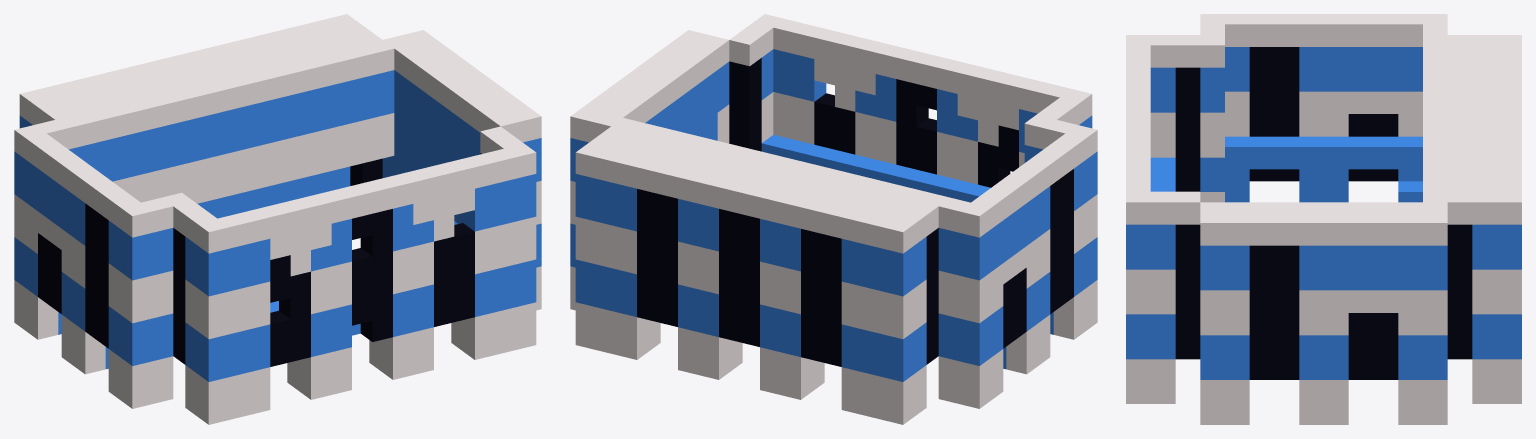
The picture shows the model from 3 angles, left to right: view 1: azimuth 30°, elevation 25°; view 2: azimuth 150°, elevation 25°; view 3: azimuth 270°, elevation 25°; orthographic projection. The views are drawn at different scales.
Visible parts, largest first — view 1: 16; view 2: 16; view 3: 16.
Part boxes in pixels (x1=…): 16: x1=14, y1=14, x2=541, y2=424; 16: x1=570, y1=14, x2=1097, y2=424; 16: x1=1126, y1=14, x2=1521, y2=424.
Size of the model in its own units: 200 by 90 by 160.
Materials: 1 (1 with a texture image).
